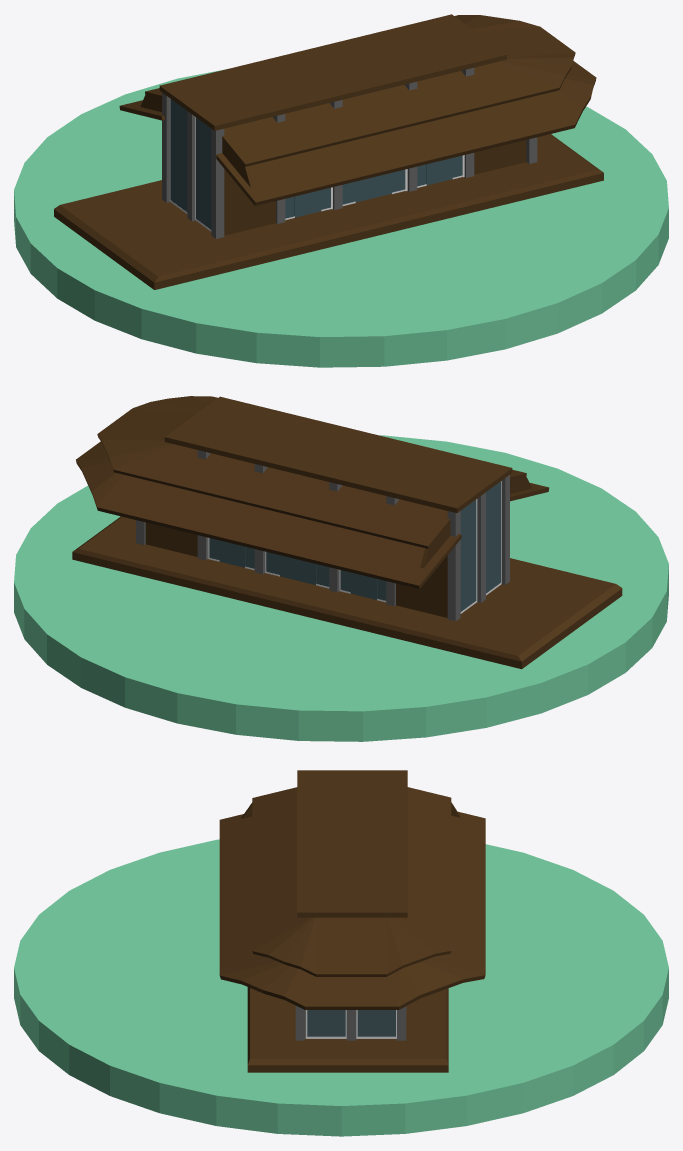
File: pesca.fbx
The picture shows the model from 3 angles, top to bottom: view 1: azimuth 30°, elevation 25°; view 2: azimuth 150°, elevation 25°; view 3: azimuth 270°, elevation 25°; orthographic projection.
Visible parts, largest first — view 1: Cylinder, Cube.006, Cube.082, Cube, Cube.081, Cube.074, Cube.064, Cube.014, Cube.015, Cube.002, Cube.001, Cube.013; view 2: Cylinder, Cube.006, Cube.082, Cube, Cube.081, Cube.004, Cube.064, Cube.014, Cube.013, Cube.000, Cube.001, Cube.015; view 3: Cylinder, Cube.082, Cube.081, Cube, Cube.006, Cube.068, Cube.070.
Boxes of the visible parts, x1,y1,x2,y2 form: Cylinder: (14,69,668,367); Cube.006: (54,134,603,289); Cube.082: (140,15,575,187); Cube: (159,14,506,130); Cube.081: (119,60,596,205); Cube.074: (224,169,275,235); Cube.064: (170,99,187,211); Cube.014: (196,117,211,229); Cube.015: (211,128,224,238); Cube.002: (474,140,526,174); Cube.001: (187,111,195,221); Cube.013: (162,92,170,202); Cylinder: (14,435,668,741); Cube.006: (72,516,622,669); Cube.082: (97,396,531,568); Cube: (164,396,512,512); Cube.081: (76,441,549,588); Cube.004: (396,555,447,617); Cube.064: (460,499,476,611); Cube.014: (486,481,500,593); Cube.013: (447,511,460,621); Cube.000: (145,522,197,556); Cube.001: (477,492,485,602); Cube.015: (501,475,509,584); Cylinder: (14,839,668,1136); Cube.082: (241,787,460,976); Cube.081: (219,811,485,1009); Cube: (297,770,407,917); Cube.006: (247,987,448,1072); Cube.068: (305,1010,345,1038); Cube.070: (357,1010,395,1036).
Bounding box in the file's own units: 5331 × 1395 × 5331.
